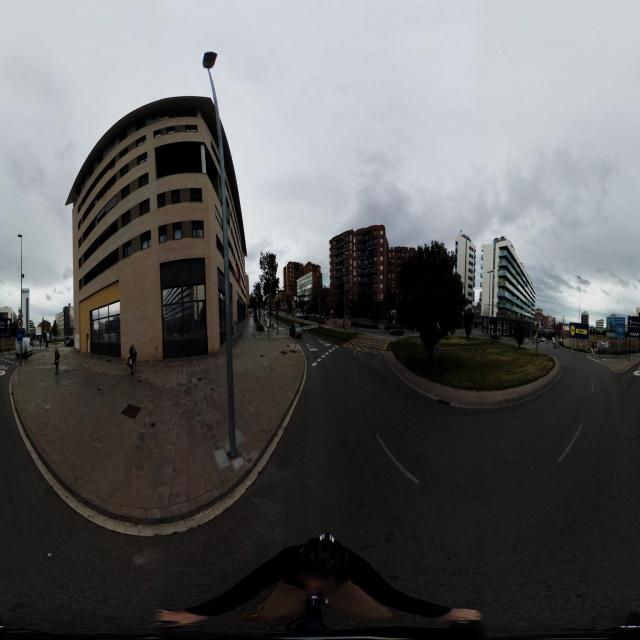car: (294, 322, 303, 338)
